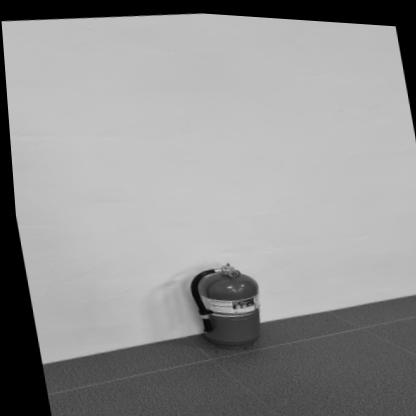FE: (183, 259, 264, 352)
